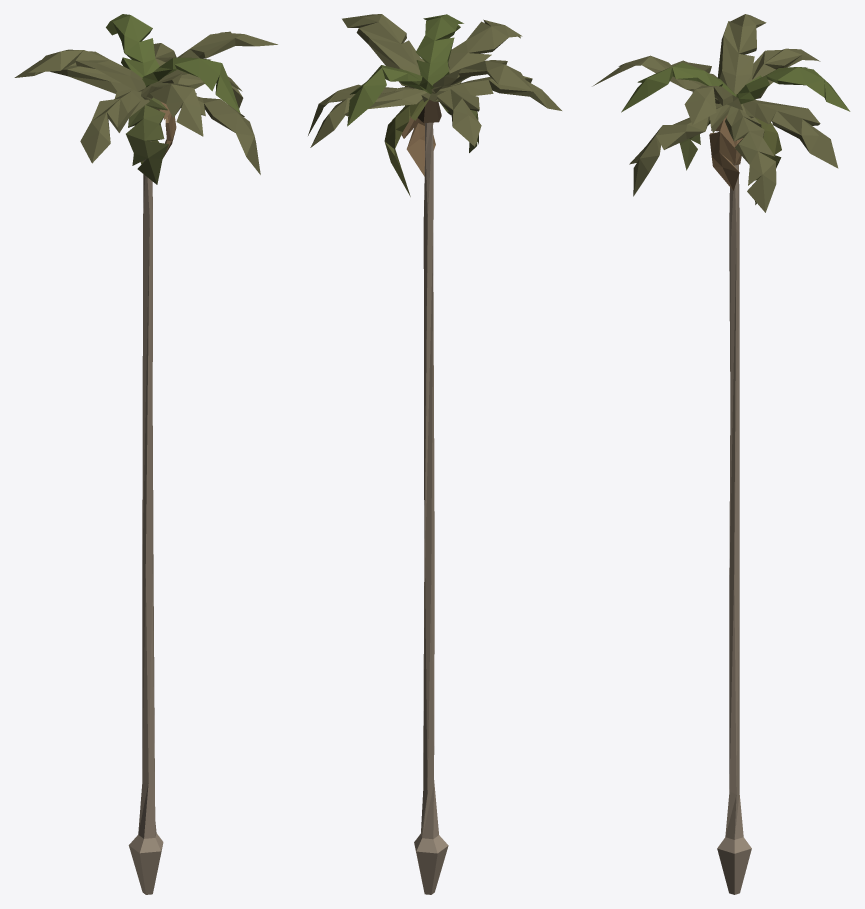
Rendered from SM_Env_PalmTree_Tall_01.glb.
3 views of the same model, side by side, from view 1: azimuth 30°, elevation 25°; view 2: azimuth 150°, elevation 25°; view 3: azimuth 270°, elevation 25° (orthographic). The views are drawn at different scales.
Visible parts, largest first — view 1: SM_Env_PalmTree_Tall_01_part00; view 2: SM_Env_PalmTree_Tall_01_part00; view 3: SM_Env_PalmTree_Tall_01_part00.
Part boxes in pixels (bbox=[...]): SM_Env_PalmTree_Tall_01_part00: bbox=[14, 14, 277, 894]; SM_Env_PalmTree_Tall_01_part00: bbox=[308, 14, 561, 894]; SM_Env_PalmTree_Tall_01_part00: bbox=[592, 14, 850, 894].
Size of the model in its own units: 4.98 by 18.47 by 5.17.
1 material, 1 textured.
